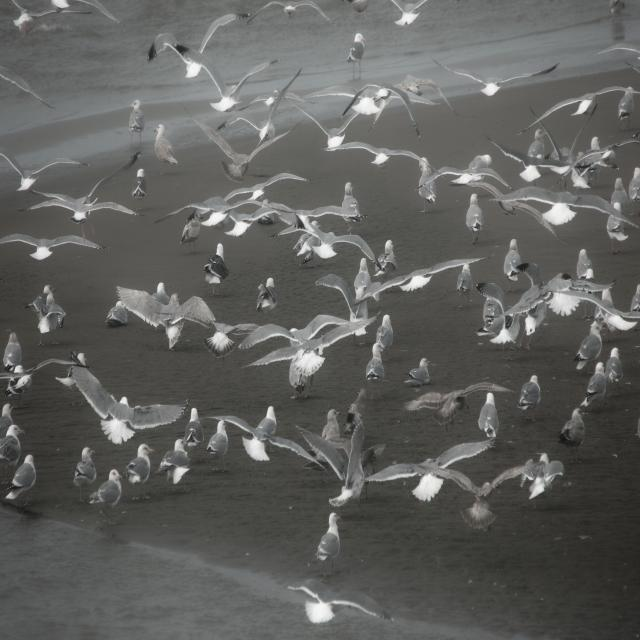bird: (277, 403, 379, 513), (266, 81, 404, 154), (63, 357, 160, 449), (102, 283, 216, 352), (245, 317, 335, 397), (372, 449, 492, 508), (144, 9, 254, 72), (437, 50, 573, 97), (194, 122, 303, 180), (286, 582, 392, 636), (527, 81, 640, 122), (188, 58, 270, 112), (0, 56, 58, 130), (30, 188, 132, 230), (493, 140, 579, 188), (168, 200, 292, 233), (490, 454, 569, 505), (2, 147, 88, 189), (474, 289, 534, 348), (224, 402, 280, 465), (399, 383, 480, 422), (5, 236, 106, 265), (401, 148, 447, 206), (517, 195, 578, 235), (370, 0, 446, 29), (291, 213, 334, 264), (443, 153, 502, 190), (1, 332, 33, 398), (312, 180, 364, 220), (595, 287, 640, 333), (315, 313, 379, 345), (374, 270, 436, 303), (6, 450, 40, 507), (26, 288, 67, 334), (160, 435, 194, 489), (574, 321, 606, 369), (558, 406, 591, 450), (88, 470, 124, 510), (499, 238, 534, 279), (152, 122, 180, 172), (478, 380, 501, 438), (314, 512, 340, 562), (126, 442, 153, 486), (569, 246, 598, 286), (346, 28, 370, 76), (516, 373, 543, 413), (0, 403, 23, 448), (403, 355, 433, 388), (124, 94, 146, 139), (360, 142, 395, 170), (463, 192, 485, 235), (72, 447, 96, 485), (182, 407, 205, 446), (205, 326, 232, 356), (605, 173, 627, 207), (204, 255, 228, 286), (256, 281, 278, 311), (130, 168, 146, 202)
